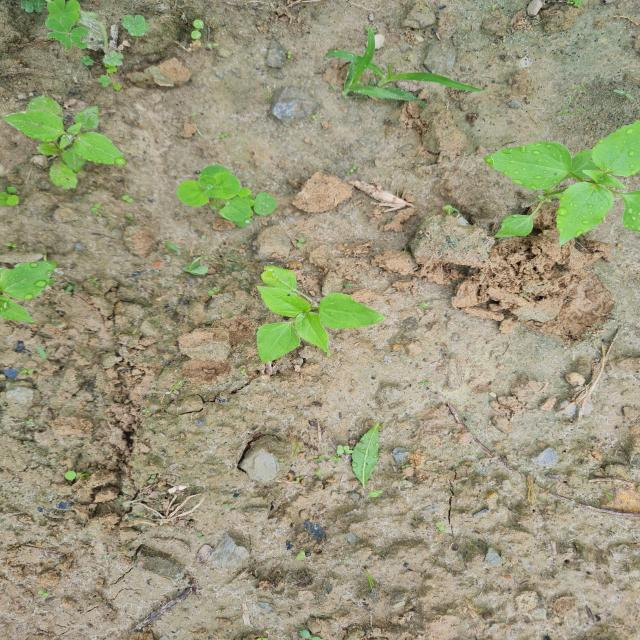weed: (477, 121, 640, 256), (237, 244, 401, 364), (308, 25, 487, 114), (3, 84, 132, 205), (159, 154, 288, 232), (1, 233, 66, 349), (325, 418, 396, 488), (22, 1, 100, 57), (116, 13, 160, 42), (185, 12, 212, 44), (4, 177, 22, 217), (101, 50, 131, 71)
